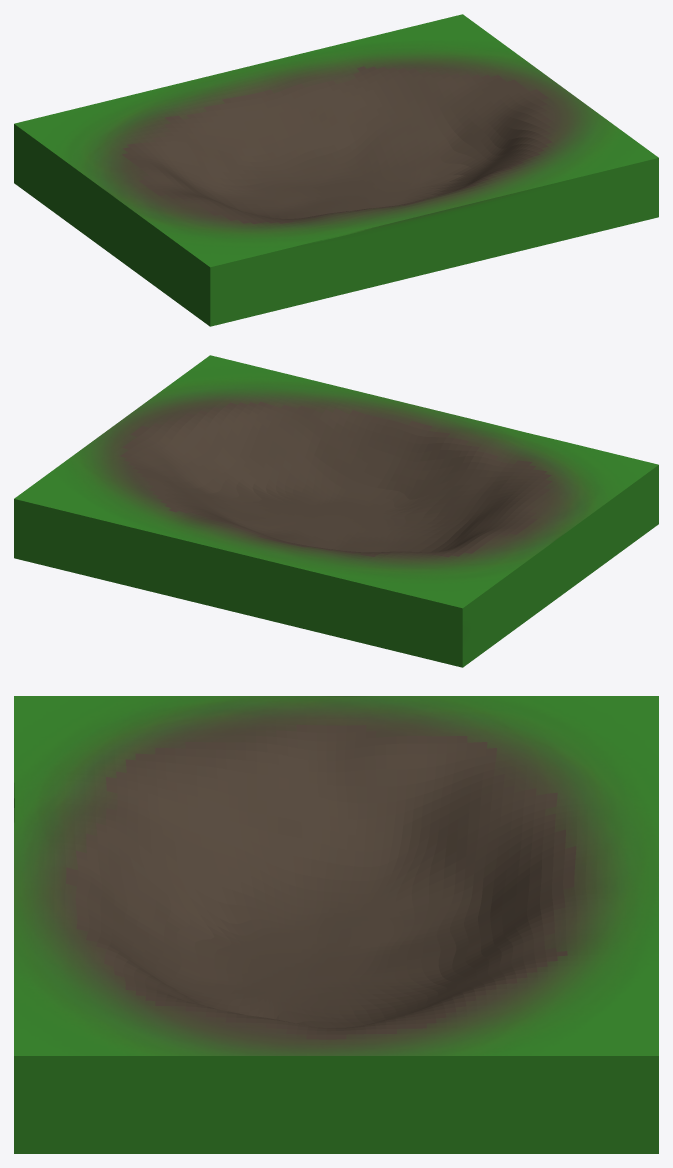
File: pool.fbx
3 renders of one model, top to bottom at view 1: azimuth 30°, elevation 25°; view 2: azimuth 150°, elevation 25°; view 3: azimuth 270°, elevation 25°, orthographic. The views are drawn at different scales.
Parts seen in each view (by area): view 1: pCube1; view 2: pCube1; view 3: pCube1.
Part boxes in pixels (<box>): pCube1: <box>14,14,658,326</box>; pCube1: <box>14,355,658,667</box>; pCube1: <box>14,696,658,1153</box>.
Size of the model in its own units: 16.41 by 2.08 by 12.43.
Materials: 1 (1 with a texture image).
